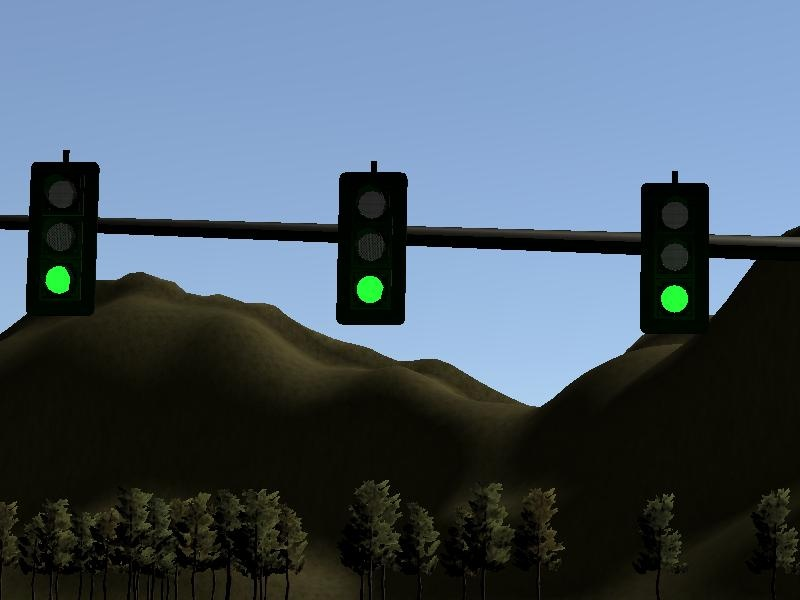GREEN: (25, 157, 100, 321), (637, 181, 713, 340), (335, 168, 407, 328)
